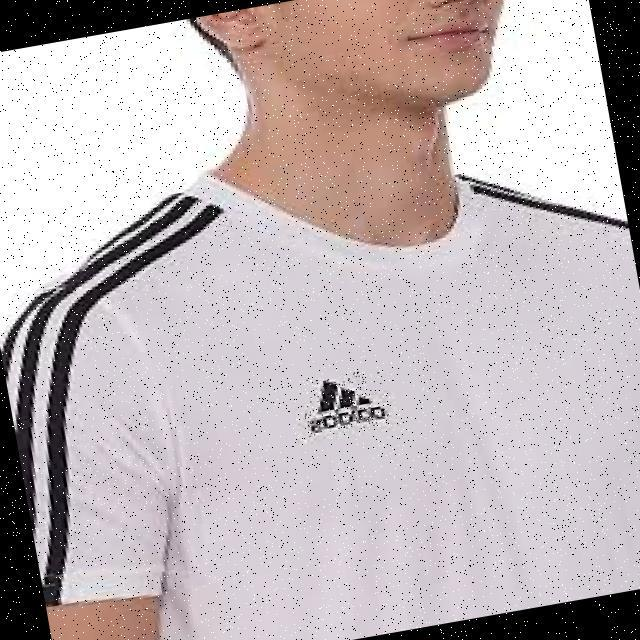Adidas: (297, 367, 390, 438)
